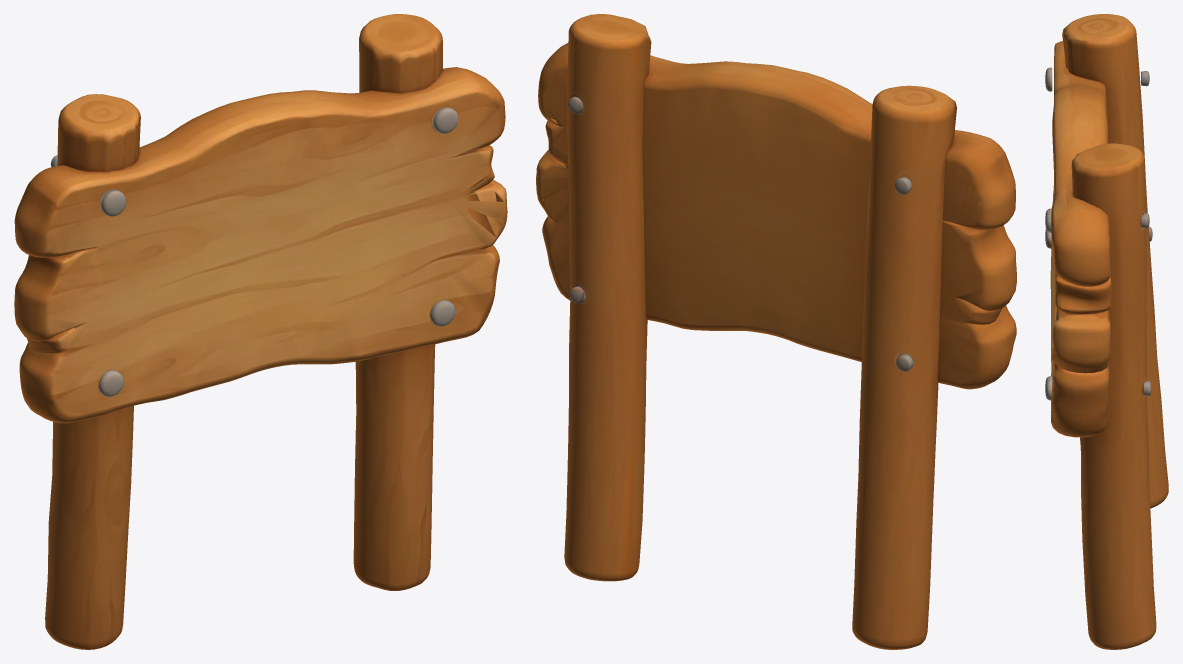
The model's file is sign.glb.
The picture shows the model from 3 angles, left to right: view 1: azimuth 30°, elevation 25°; view 2: azimuth 150°, elevation 25°; view 3: azimuth 270°, elevation 25°; orthographic projection. The views are drawn at different scales.
Visible parts, largest first — view 1: tripo_node_df25cdcd-65a1-48a5-a161-a340f955f1a9; view 2: tripo_node_df25cdcd-65a1-48a5-a161-a340f955f1a9; view 3: tripo_node_df25cdcd-65a1-48a5-a161-a340f955f1a9.
Part boxes in pixels (bbox=[...]): tripo_node_df25cdcd-65a1-48a5-a161-a340f955f1a9: bbox=[14, 14, 507, 649]; tripo_node_df25cdcd-65a1-48a5-a161-a340f955f1a9: bbox=[536, 14, 1016, 649]; tripo_node_df25cdcd-65a1-48a5-a161-a340f955f1a9: bbox=[1045, 14, 1168, 649].
Bounding box in the file's own units: 0.898 × 0.9995 × 0.229.
1 material, 1 textured.
